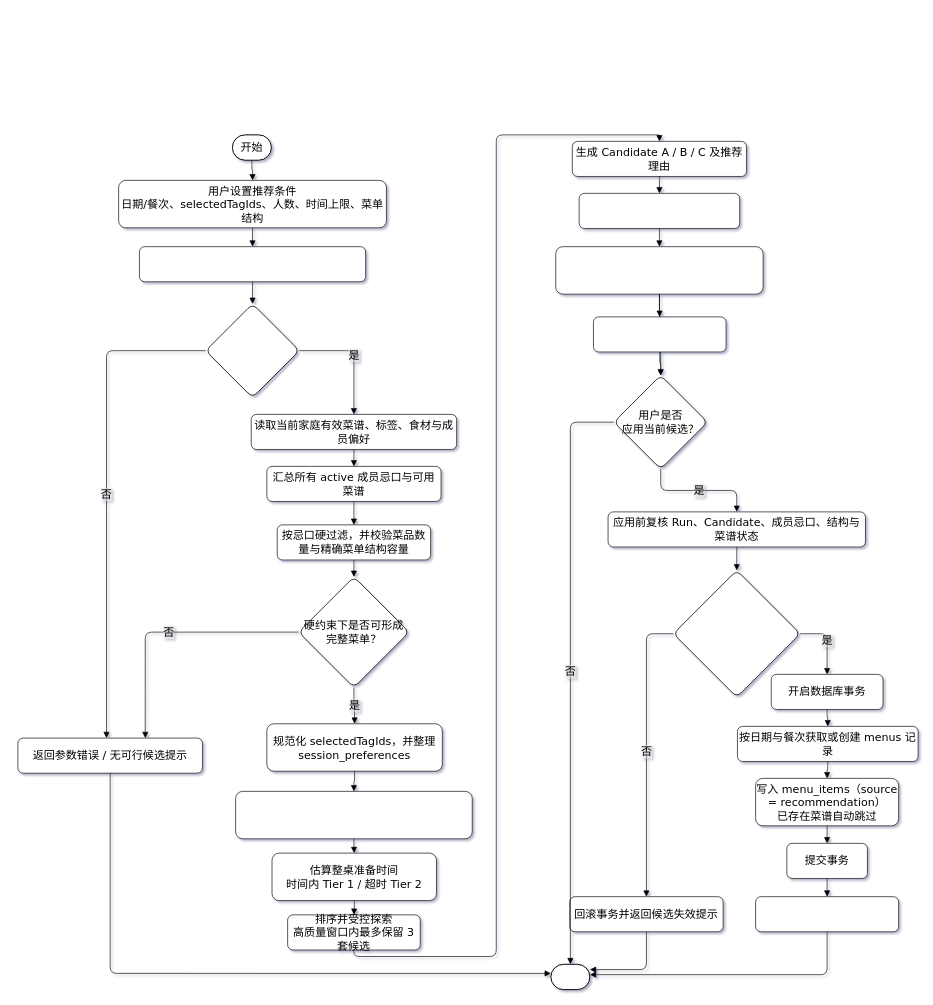
This 933x1005 diagram has some shape labels left out. Here are the shapes that lost their labels. From the top down, the centre of each, then its label:
At (659,210): "写入 recommendation_runs".
At (252,264): "校验当前用户、家庭成员身份及输入参数".
At (659,270): "写入 recommendation_candidates / candidate_items 保存候选、菜谱、槽位、得分与理由".
At (252,350): "参数与身份 是否合法？".
At (659,334): "返回候选列表，并支持“换一组”".
At (736,633): "当前候选 是否仍然有效？".
At (353,815): "生成完整菜单候选并计算得分 标签匹配、结构可行性、时间、多样性".
At (827,914): "返回菜单应用成功结果".
At (570,976): "结束".
